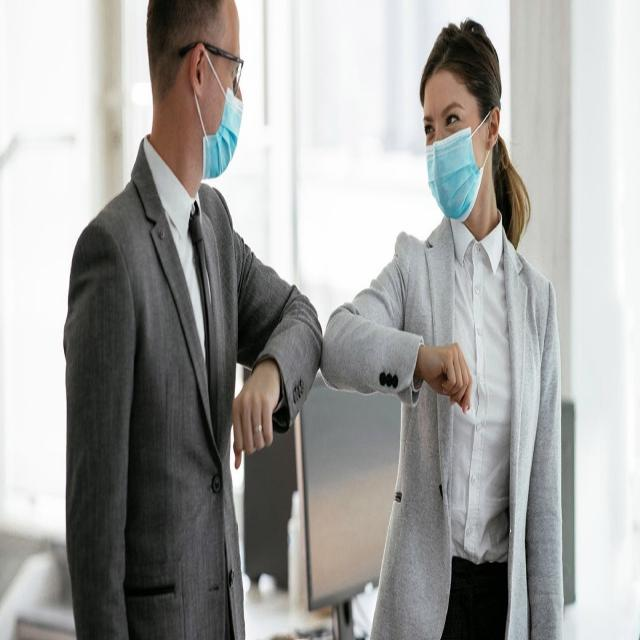adult: (68, 0, 322, 640), (321, 18, 565, 640)
